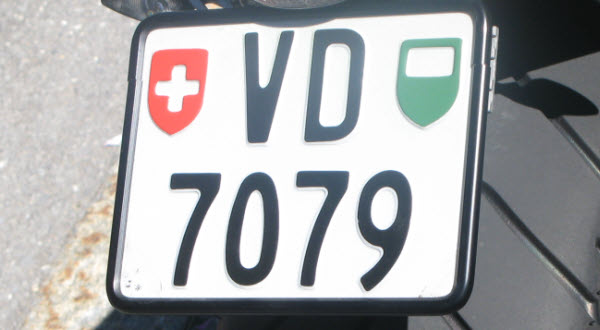license_plate: (115, 10, 477, 306)
